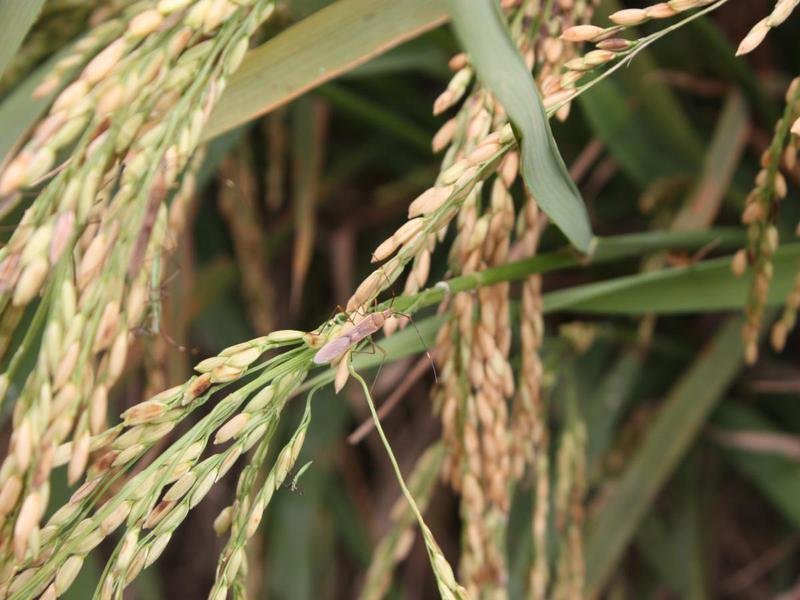Rice_earhead_bug: (247, 242, 420, 404)
